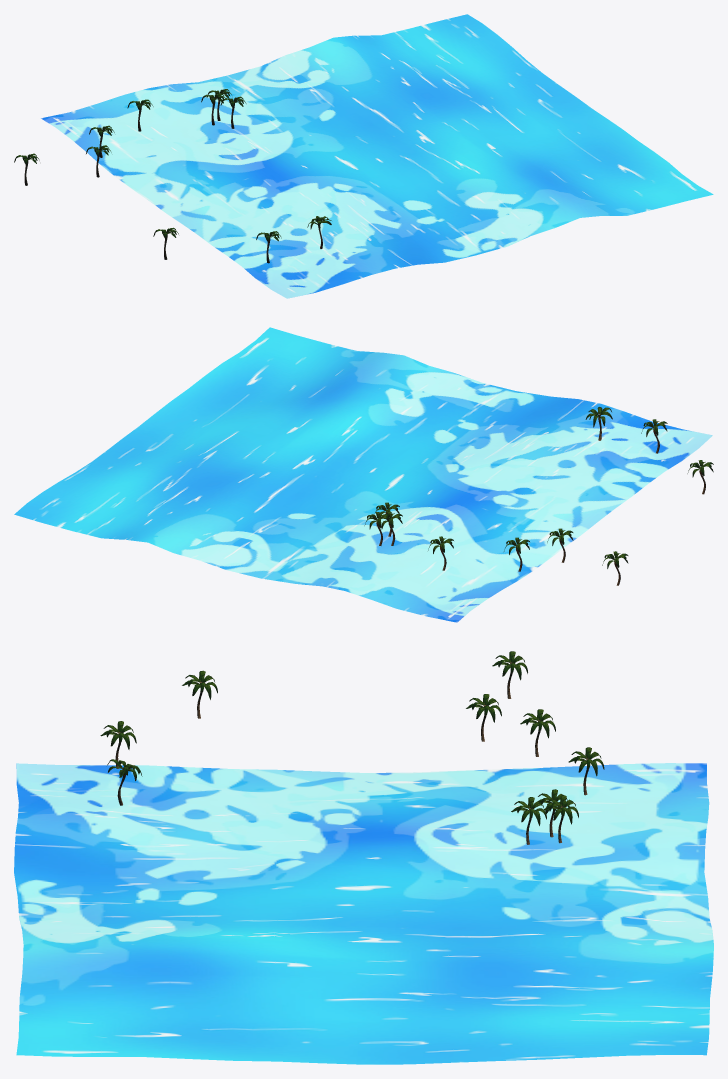
File: model_chunk_2.glb
The picture shows the model from 3 angles, top to bottom: view 1: azimuth 30°, elevation 25°; view 2: azimuth 150°, elevation 25°; view 3: azimuth 270°, elevation 25°; orthographic projection. The views are drawn at different scales.
Visible parts, largest first — view 1: SeaPlane_animated02; view 2: SeaPlane_animated02; view 3: SeaPlane_animated02.
Boxes of the visible parts, x1,y1,x2,y2 form: SeaPlane_animated02: [41, 14, 713, 298]; SeaPlane_animated02: [14, 327, 712, 622]; SeaPlane_animated02: [14, 763, 713, 1064].
Size of the model in its own units: 61.5 by 4.71 by 50.69.
1 material, 1 textured.
